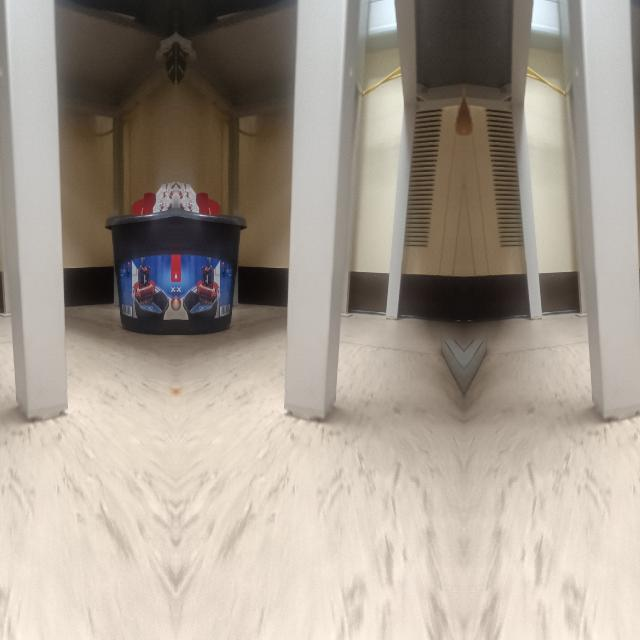obstacle: (284, 131, 342, 423), (8, 131, 66, 423), (585, 131, 640, 423), (175, 183, 247, 333), (103, 183, 175, 333)
